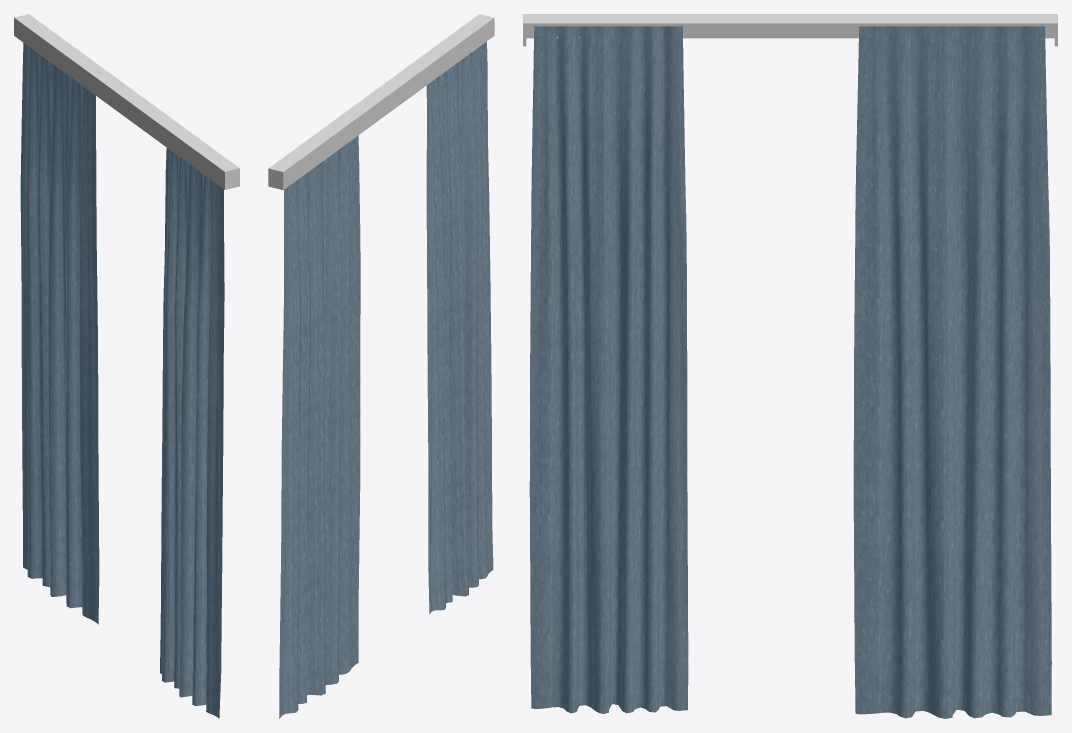
File: curtains.glb
3 views of the same model, side by side, from view 1: azimuth 30°, elevation 25°; view 2: azimuth 150°, elevation 25°; view 3: azimuth 270°, elevation 25° (orthographic). The views are drawn at different scales.
Visible parts, largest first — view 1: curtain_01, curtain_02, Cube; view 2: curtain_01, curtain_02, Cube; view 3: curtain_01, curtain_02, Cube.
Boxes of the visible parts, bbox=[...] form: curtain_01: bbox=[20, 43, 99, 624]; curtain_02: bbox=[160, 148, 224, 718]; Cube: bbox=[14, 14, 239, 189]; curtain_01: bbox=[279, 135, 360, 718]; curtain_02: bbox=[426, 41, 493, 614]; Cube: bbox=[268, 14, 494, 190]; curtain_01: bbox=[853, 26, 1051, 718]; curtain_02: bbox=[529, 26, 688, 713]; Cube: bbox=[523, 14, 1057, 46].
Size of the model in its own units: 0.1648 by 3.5 by 2.43.
1 material, 1 textured.
